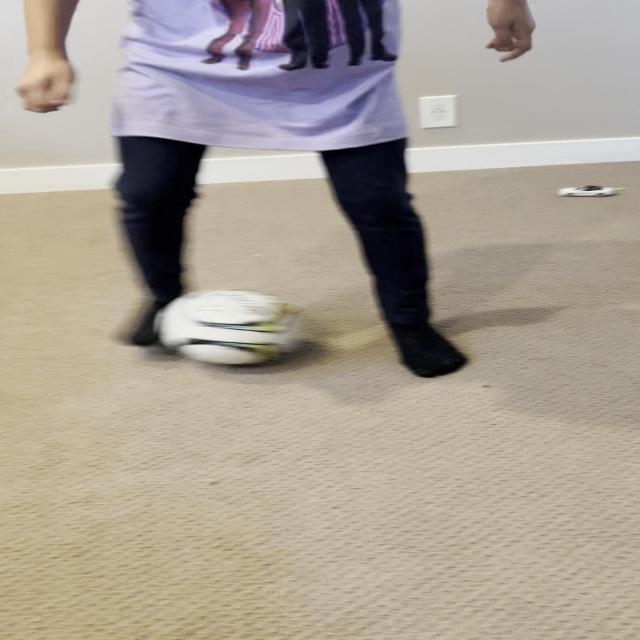Soccer Ball: (153, 288, 306, 366)
